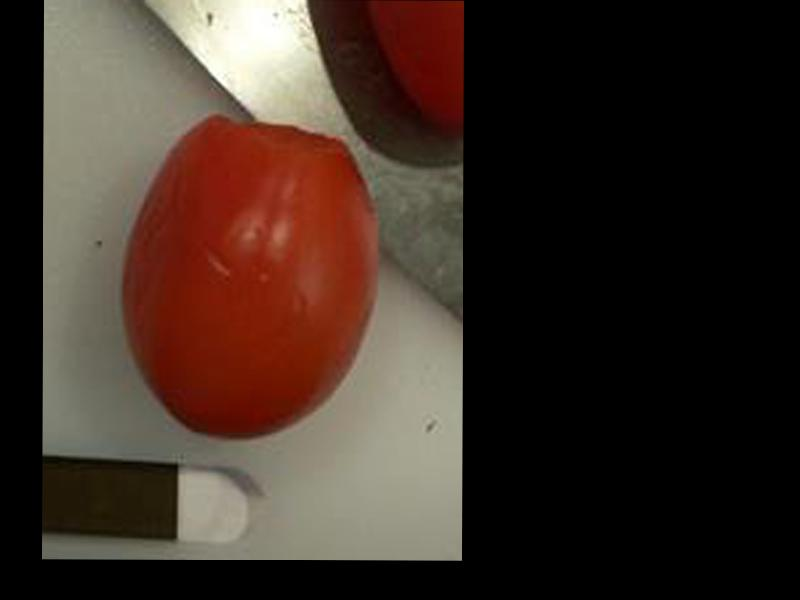Tomato: (121, 116, 380, 440)
